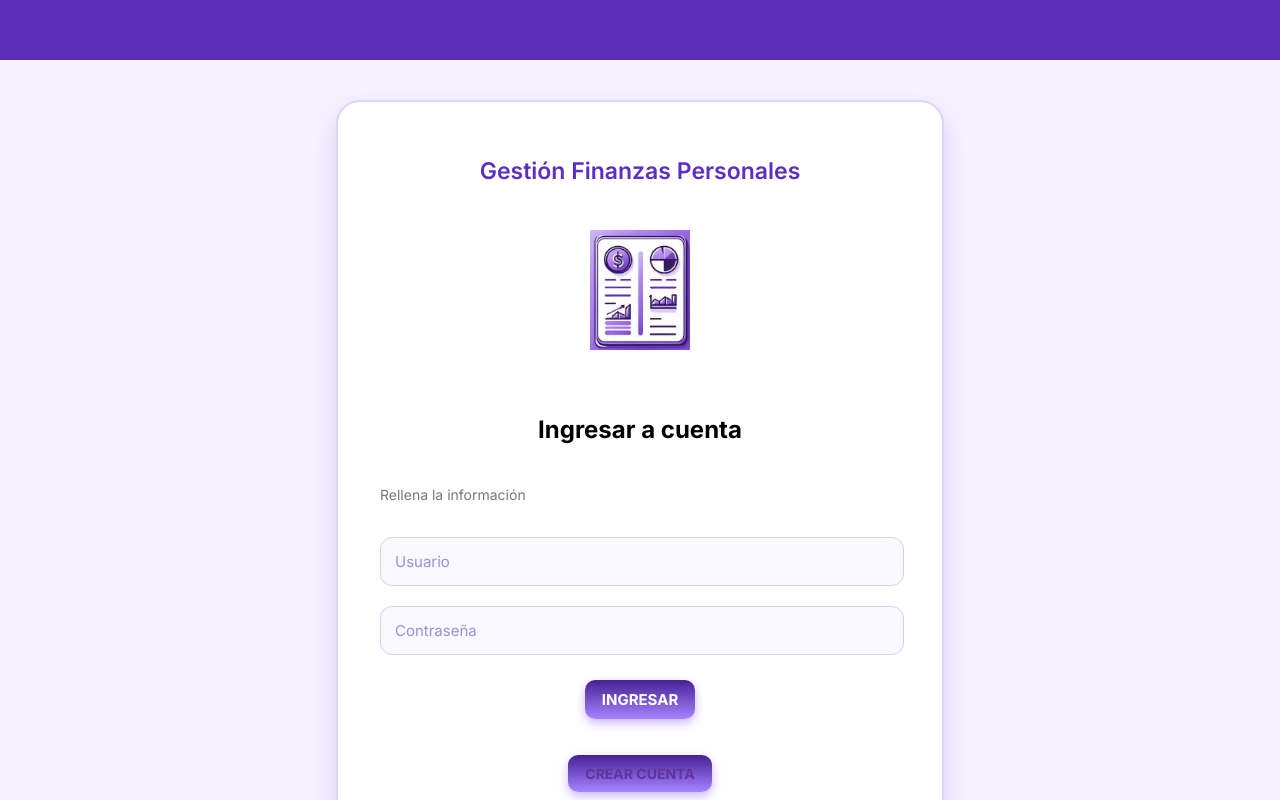
Test: Navegación desde Registrar Usuario al Login › Debe regresar al login al presionar el botón del header
Ir a la página de registrar usuario
Step 1. Click the link "CREAR CUENTA" → click(640, 774), box [568,755,711,792]
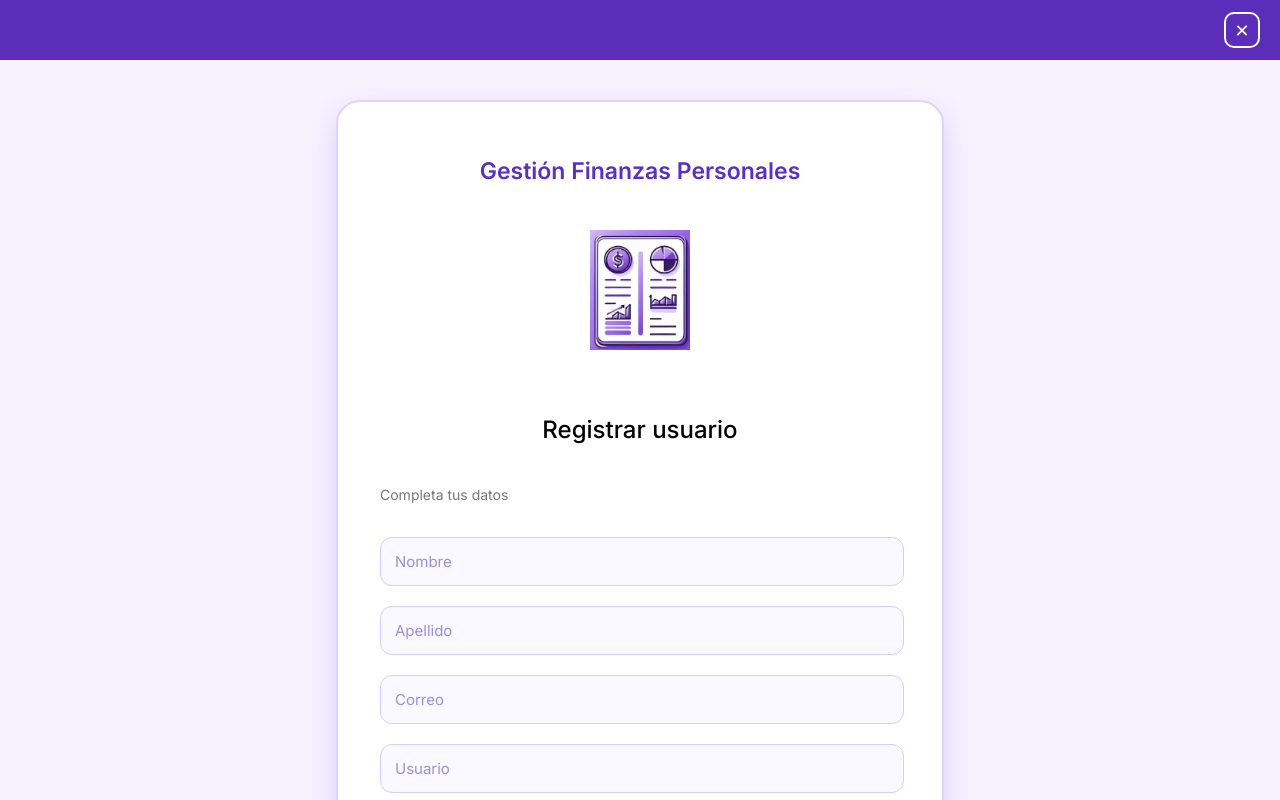
Check: the heading "Registrar usuario" is shown, box [542,415,738,444]
Presionar el botón del header para volver
Step 2. Click the button "✕" → click(1242, 30), box [1224,12,1260,48]
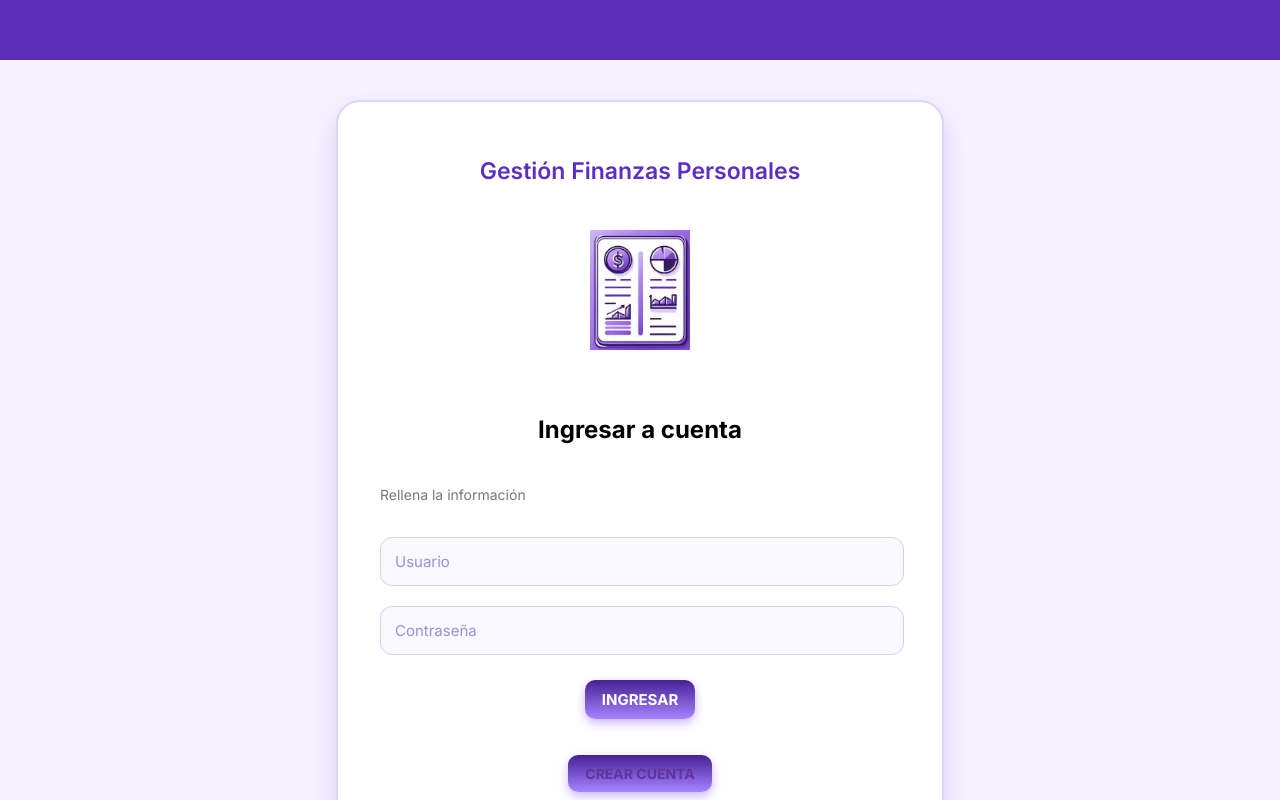
Check: the heading "Ingresar a cuenta" is shown, box [538,415,742,444]
